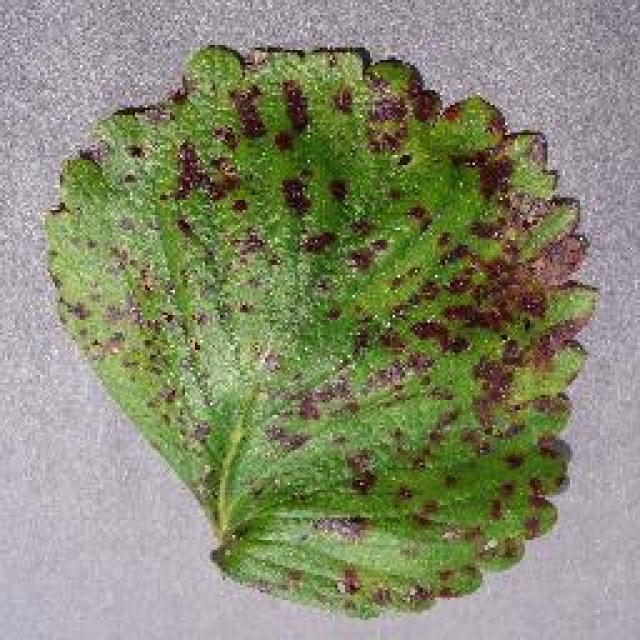Strawberry leaf scorch: (147, 110, 518, 475)
